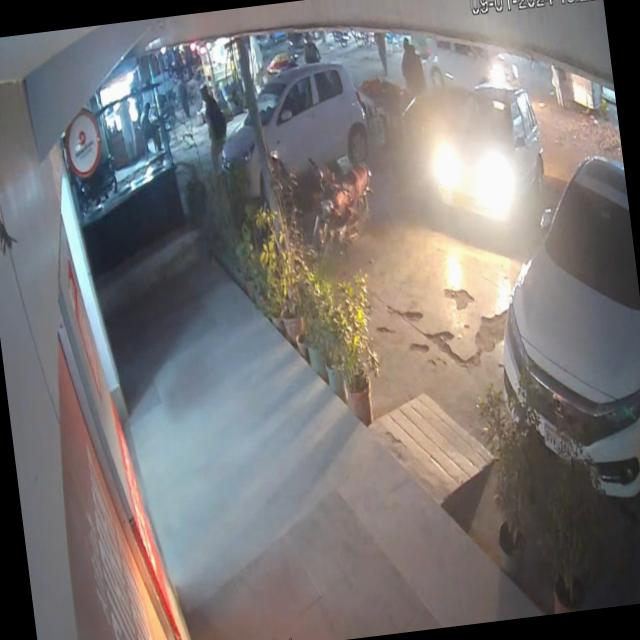Car: (468, 103, 640, 525), (424, 60, 554, 298), (188, 42, 376, 192)
Motorcycle: (300, 139, 382, 262)
